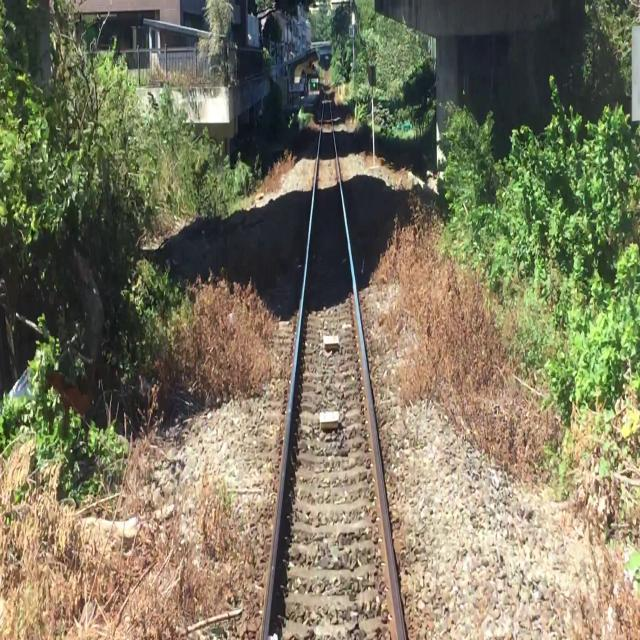rail: (234, 71, 450, 640)
